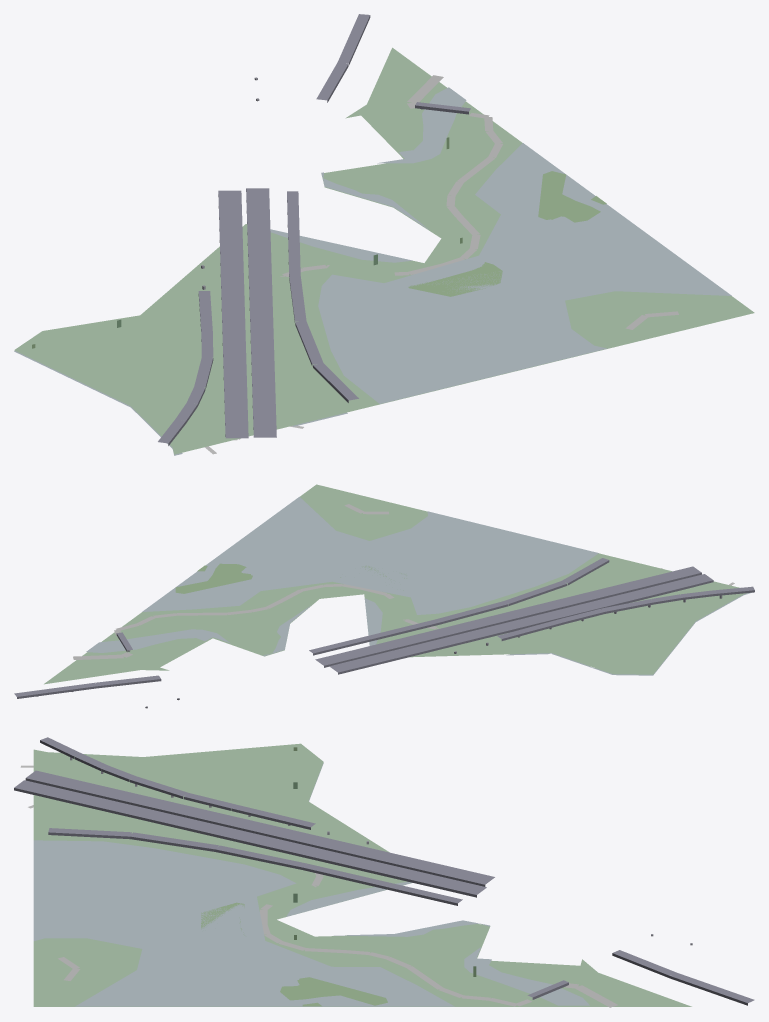
3 renders of one model, top to bottom at view 1: azimuth 30°, elevation 25°; view 2: azimuth 150°, elevation 25°; view 3: azimuth 270°, elevation 25°, orthographic. The views are drawn at different scales.
Bounding box in the file's own units: 423 × 10.51 × 495.
